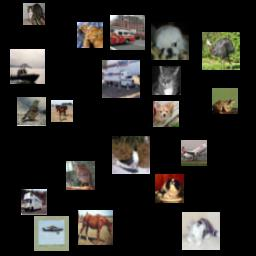airplane: (34, 216, 69, 251), (181, 140, 207, 166)
bird: (112, 136, 150, 174), (202, 32, 240, 70), (66, 161, 95, 190), (17, 97, 46, 126)
cat: (182, 212, 220, 250), (152, 66, 181, 95), (77, 22, 103, 48), (23, 3, 45, 25)
dog: (151, 22, 189, 60), (155, 174, 184, 203), (153, 101, 179, 127)
frog: (212, 88, 238, 114)
ship: (10, 49, 45, 84)
truck: (102, 60, 140, 98), (110, 15, 145, 50), (21, 189, 47, 215)
